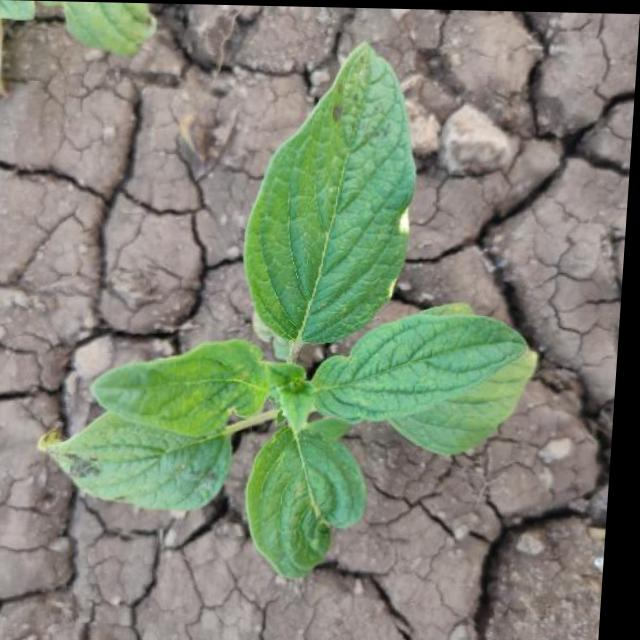crop: (39, 35, 560, 594)
